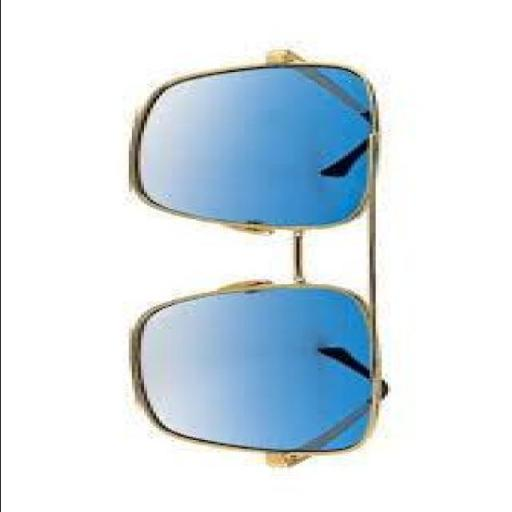glasses: (75, 26, 440, 500)
